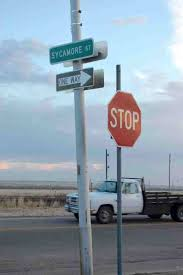oneWay: (56, 66, 94, 90)
stop: (107, 89, 143, 150)
